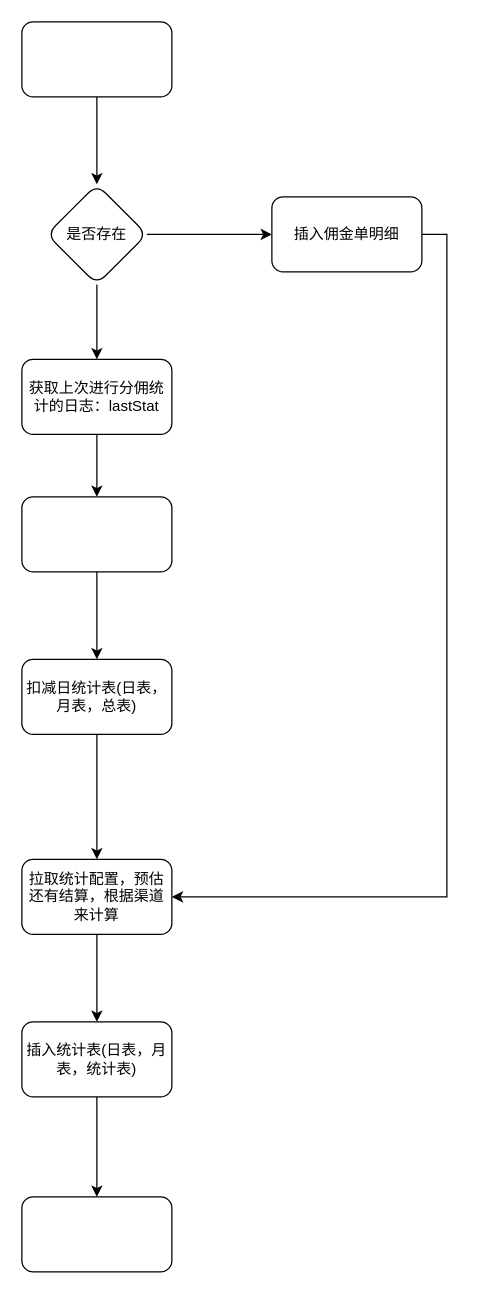
Image size: 479x1294. Some labels were removed from this diagram. The shapes that lost their labels are listed below. From the top down, each one's centre as x and y in pixels, then its label:
At point (96, 59): "分佣单处理".
At point (96, 534): "根据lastStat撤销上次统计".
At point (96, 1234): "收入分佣明细表更新，统计的记录，给与下一次撤销使用".
